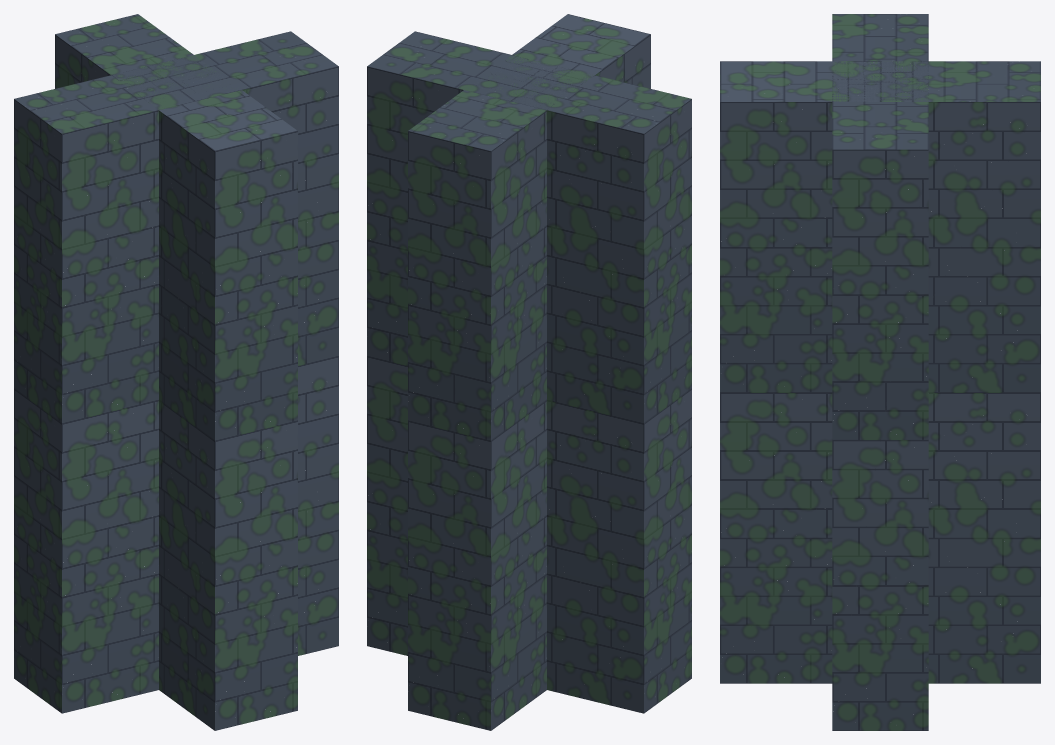
The model's file is junction_X.obj.
The picture shows the model from 3 angles, left to right: view 1: azimuth 30°, elevation 25°; view 2: azimuth 150°, elevation 25°; view 3: azimuth 270°, elevation 25°; orthographic projection.
Visible parts, largest first — view 1: junction_X; view 2: junction_X; view 3: junction_X.
Part boxes in pixels (<box>): junction_X: <box>14,14,338,730</box>; junction_X: <box>367,14,691,730</box>; junction_X: <box>720,14,1040,730</box>.
Bounding box in the file's own units: 1 × 2 × 1.
Materials: 1 (1 with a texture image).
